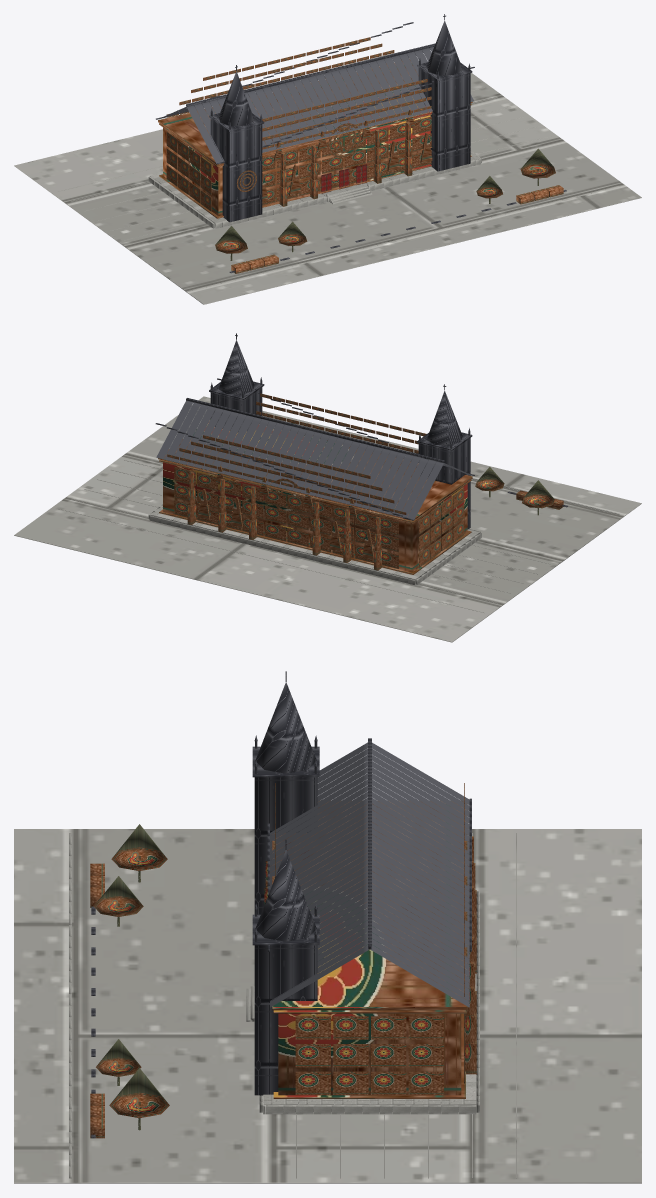
3 renders of one model, top to bottom at view 1: azimuth 30°, elevation 25°; view 2: azimuth 150°, elevation 25°; view 3: azimuth 270°, elevation 25°, orthographic. The views are drawn at different scales.
Visible parts, largest first — view 1: 11140_02_04519_010_06__courtyard_paving, 11140_02_04519_010_02__gray_brick_gothic_nave, 11140_02_04519_010_03__twin_spire_cross_pinnacle, 11140_02_04519_010_03__slate_gable_roof, 11140_02_04519_010_01__granite_plinth_courtyard, 11140_02_04519_010_06__courtyard_trees, 11140_02_04519_010_05__pointed_arch_rose_stained_glass, 11140_02_04519_010_05__entrance_door_panels; view 2: 11140_02_04519_010_06__courtyard_paving, 11140_02_04519_010_02__gray_brick_gothic_nave, 11140_02_04519_010_03__slate_gable_roof, 11140_02_04519_010_03__twin_spire_cross_pinnacle, 11140_02_04519_010_01__granite_plinth_courtyard, 11140_02_04519_010_05__pointed_arch_rose_stained_glass, 11140_02_04519_010_06__courtyard_trees; view 3: 11140_02_04519_010_06__courtyard_paving, 11140_02_04519_010_03__slate_gable_roof, 11140_02_04519_010_02__gray_brick_gothic_nave, 11140_02_04519_010_03__twin_spire_cross_pinnacle, 11140_02_04519_010_06__courtyard_trees, 11140_02_04519_010_01__granite_plinth_courtyard.
Part boxes in pixels (x1=…): 11140_02_04519_010_06__courtyard_paving: x1=14, y1=73, x2=641, y2=304; 11140_02_04519_010_02__gray_brick_gothic_nave: x1=158, y1=37, x2=472, y2=218; 11140_02_04519_010_03__twin_spire_cross_pinnacle: x1=156, y1=14, x2=474, y2=222; 11140_02_04519_010_03__slate_gable_roof: x1=157, y1=47, x2=473, y2=163; 11140_02_04519_010_01__granite_plinth_courtyard: x1=148, y1=150, x2=481, y2=228; 11140_02_04519_010_06__courtyard_trees: x1=215, y1=148, x2=563, y2=273; 11140_02_04519_010_05__pointed_arch_rose_stained_glass: x1=219, y1=90, x2=432, y2=202; 11140_02_04519_010_05__entrance_door_panels: x1=321, y1=164, x2=366, y2=193; 11140_02_04519_010_06__courtyard_paving: x1=14, y1=396, x2=641, y2=642; 11140_02_04519_010_02__gray_brick_gothic_nave: x1=158, y1=393, x2=472, y2=574; 11140_02_04519_010_03__slate_gable_roof: x1=156, y1=400, x2=473, y2=519; 11140_02_04519_010_03__twin_spire_cross_pinnacle: x1=155, y1=333, x2=474, y2=529; 11140_02_04519_010_01__granite_plinth_courtyard: x1=148, y1=504, x2=481, y2=584; 11140_02_04519_010_05__pointed_arch_rose_stained_glass: x1=198, y1=450, x2=410, y2=559; 11140_02_04519_010_06__courtyard_trees: x1=291, y1=422, x2=563, y2=515; 11140_02_04519_010_06__courtyard_paving: x1=14, y1=829, x2=641, y2=1183; 11140_02_04519_010_03__slate_gable_roof: x1=270, y1=742, x2=469, y2=1007; 11140_02_04519_010_02__gray_brick_gothic_nave: x1=264, y1=783, x2=476, y2=1098; 11140_02_04519_010_03__twin_spire_cross_pinnacle: x1=252, y1=671, x2=471, y2=1095; 11140_02_04519_010_06__courtyard_trees: x1=90, y1=824, x2=169, y2=1138; 11140_02_04519_010_01__granite_plinth_courtyard: x1=246, y1=889, x2=479, y2=1114.
Bounding box in the file's own units: 80 × 26.44 × 60.
Materials: 7 (7 with a texture image).
